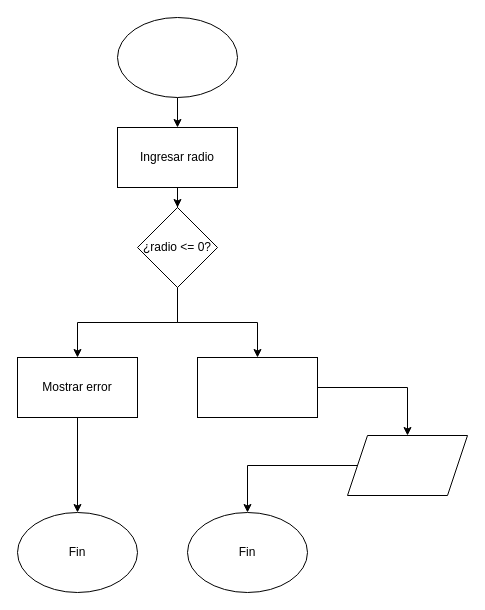
Some shapes in this 485 by 610 pixel diagram are drawn without their labels. The centre of each missing label's shape, as x and y in pixels:
"Calcular Área: PI * radio * radio" goes at (257,387).
"Inicio" goes at (177,57).
"Mostrar Área y Dibujar Diana" goes at (407,465).
